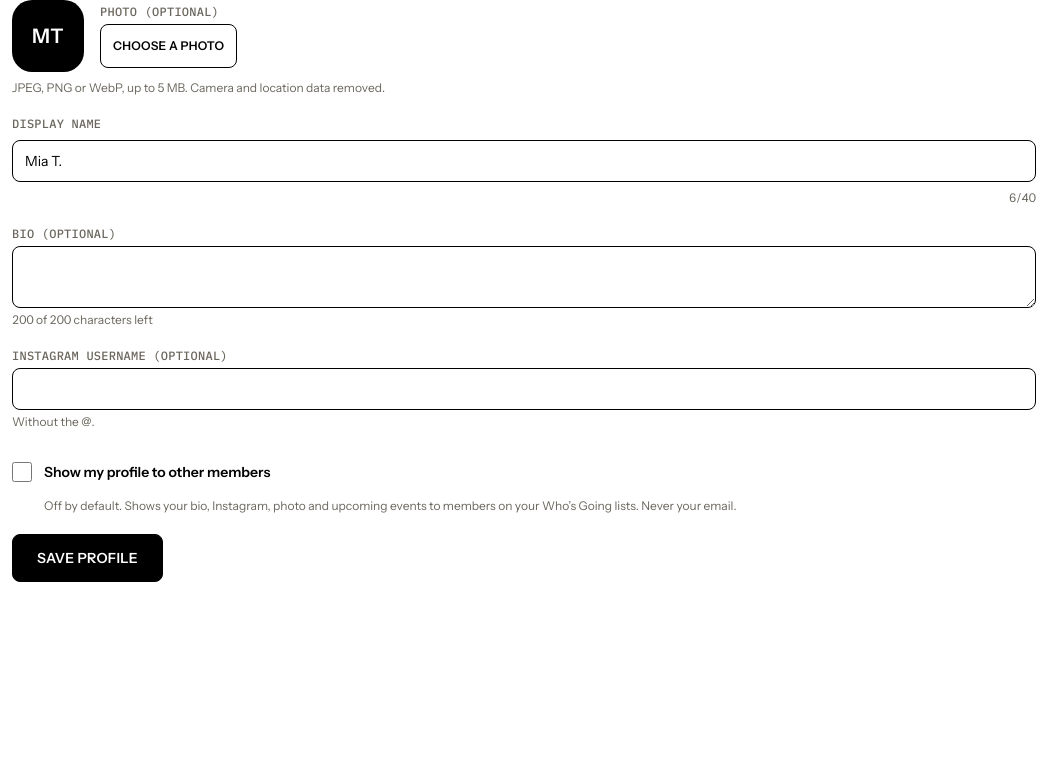
Test case: member profile settings (/account) › says why it can't save (403 unverified), as an alert
This screenshot has width=1048, height=768.
Click the checkbox labelled "Show my profile to other members" at (22, 472), box [12,462,32,482]
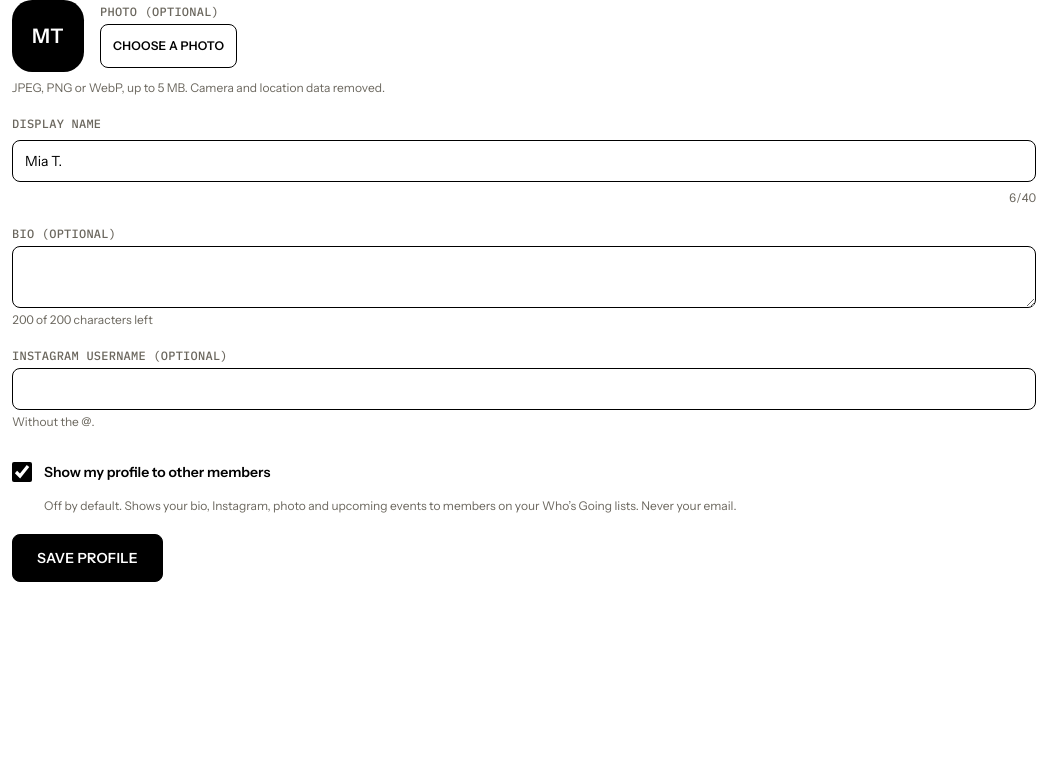
Click the button "Save profile" at (87, 558), box [12,534,163,582]
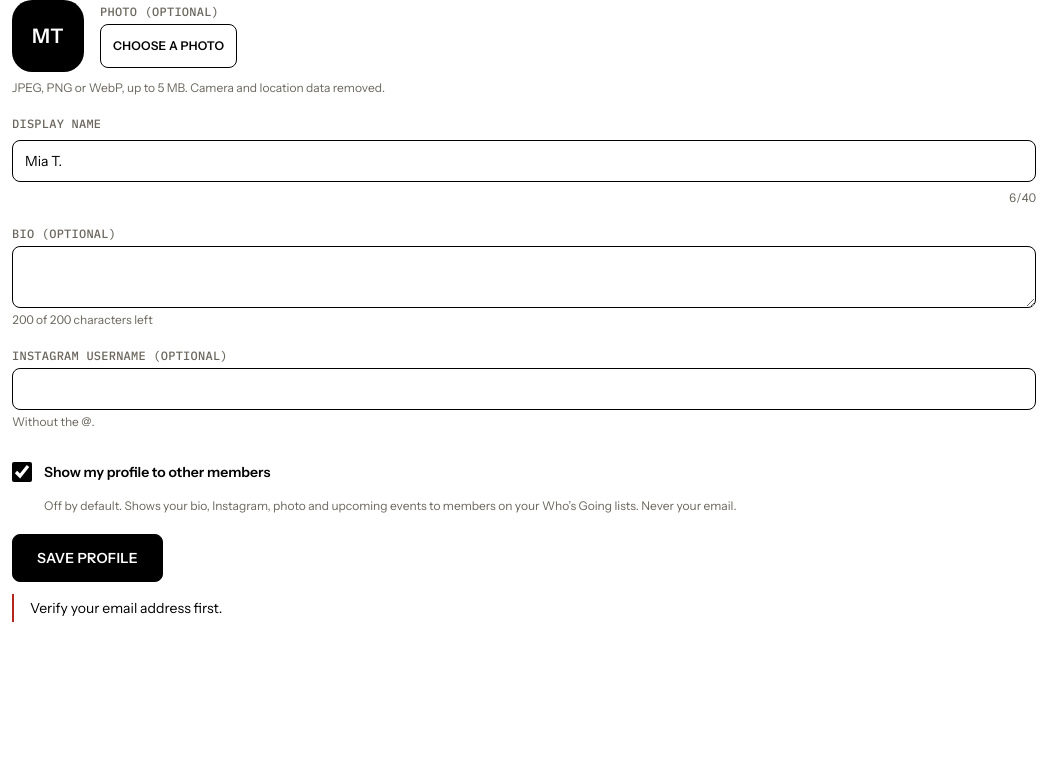
expect the message reads "Verify your email address first.": met, box [30,599,222,617]
